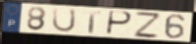6: (164, 13, 187, 40)
8: (25, 6, 47, 32)
P: (105, 9, 134, 36)
T: (83, 10, 103, 34)
U: (51, 7, 78, 34)
Z: (133, 11, 161, 39)
